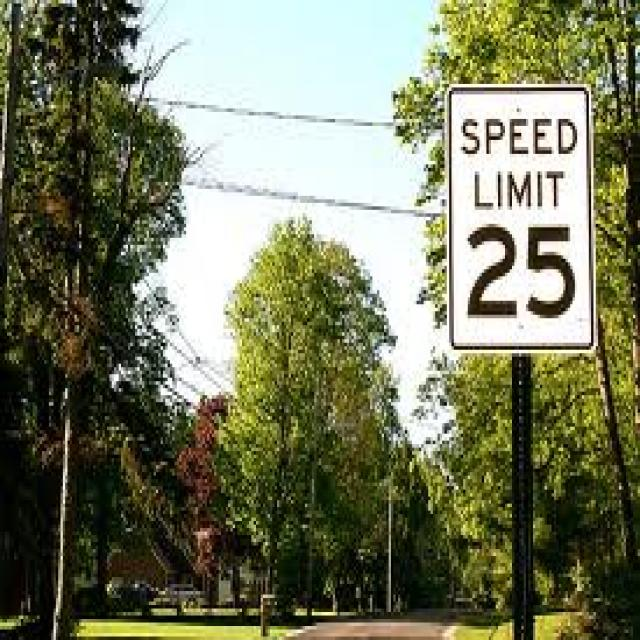regulatory: (443, 75, 597, 348)
